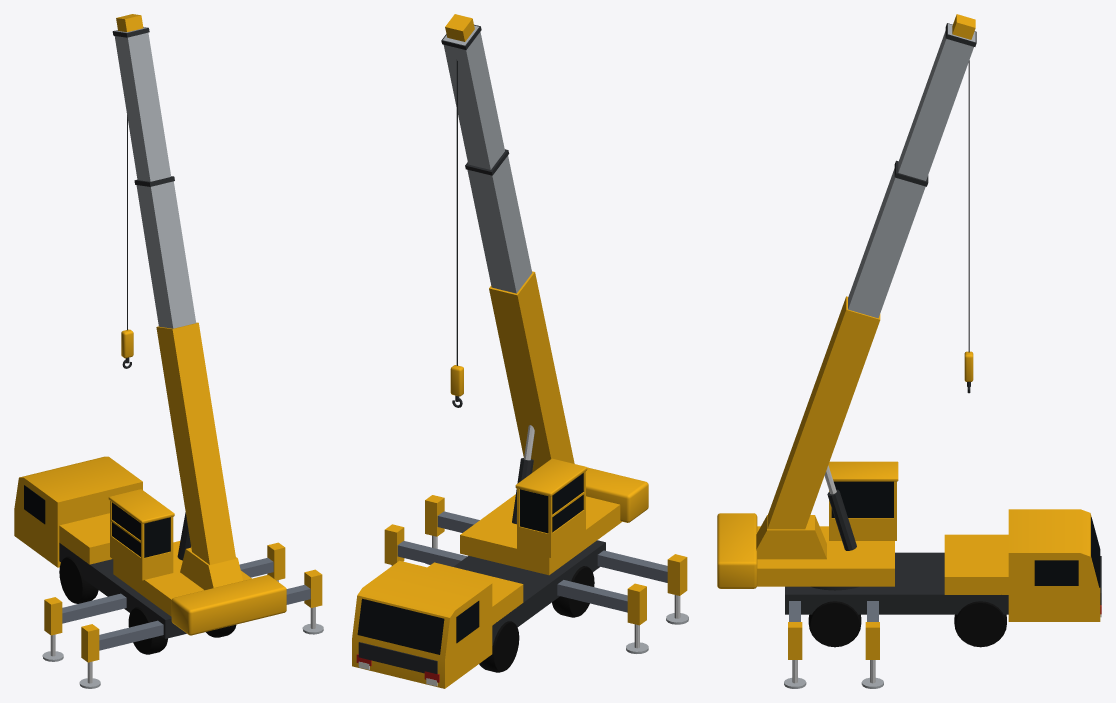
Rendered from plant.lifting.mobile_crane_2_axle.glb.
3 views of the same model, side by side, from view 1: azimuth 30°, elevation 25°; view 2: azimuth 150°, elevation 25°; view 3: azimuth 270°, elevation 25° (orthographic). The views are drawn at different scales.
Parts seen in each view (by area): view 1: upper__plant_yellow, boom__plant_yellow, boom__steel_galvanised, carrier__plant_yellow, outriggers__steel_painted, outriggers__plant_yellow, carrier__steel_dark, wheels__rubber, upper__glass_dark, boom__steel_dark, carrier__glass_dark, outriggers__steel_galvanised; view 2: upper__plant_yellow, carrier__plant_yellow, boom__steel_galvanised, boom__plant_yellow, carrier__steel_dark, outriggers__steel_painted, carrier__glass_dark, outriggers__plant_yellow, upper__glass_dark, wheels__rubber, boom__steel_dark, hook__steel_dark; view 3: upper__plant_yellow, carrier__plant_yellow, boom__steel_galvanised, boom__plant_yellow, carrier__steel_dark, wheels__rubber, upper__glass_dark, carrier__glass_dark, boom__steel_dark, outriggers__plant_yellow, hook__steel_dark.
Boxes of the visible parts, bbox=[...] form: upper__plant_yellow: bbox=[108, 489, 286, 635]; boom__plant_yellow: bbox=[116, 14, 235, 564]; boom__steel_galvanised: bbox=[114, 27, 196, 328]; carrier__plant_yellow: bbox=[14, 456, 142, 567]; outriggers__steel_painted: bbox=[62, 557, 310, 650]; outriggers__plant_yellow: bbox=[44, 542, 322, 662]; carrier__steel_dark: bbox=[59, 543, 186, 638]; wheels__rubber: bbox=[59, 556, 236, 654]; upper__glass_dark: bbox=[112, 502, 170, 557]; boom__steel_dark: bbox=[112, 27, 190, 560]; carrier__glass_dark: bbox=[24, 485, 45, 524]; outriggers__steel_galvanised: bbox=[42, 623, 323, 688]; upper__plant_yellow: bbox=[460, 458, 648, 575]; carrier__plant_yellow: bbox=[352, 560, 523, 688]; boom__steel_galvanised: bbox=[443, 25, 532, 293]; boom__plant_yellow: bbox=[445, 14, 574, 472]; carrier__steel_dark: bbox=[358, 540, 605, 673]; outriggers__steel_painted: bbox=[397, 511, 667, 612]; carrier__glass_dark: bbox=[357, 598, 479, 654]; outriggers__plant_yellow: bbox=[384, 495, 687, 625]; upper__glass_dark: bbox=[520, 473, 583, 533]; wheels__rubber: bbox=[479, 566, 594, 672]; boom__steel_dark: bbox=[441, 24, 533, 524]; hook__steel_dark: bbox=[452, 59, 462, 407]; upper__plant_yellow: bbox=[717, 461, 898, 588]; carrier__plant_yellow: bbox=[944, 509, 1100, 621]; boom__steel_galvanised: bbox=[848, 23, 975, 318]; boom__plant_yellow: bbox=[767, 14, 975, 529]; carrier__steel_dark: bbox=[785, 552, 1101, 614]; wheels__rubber: bbox=[808, 601, 1006, 647]; upper__glass_dark: bbox=[831, 481, 893, 517]; carrier__glass_dark: bbox=[1034, 517, 1100, 587]; boom__steel_dark: bbox=[827, 23, 976, 550]; outriggers__plant_yellow: bbox=[788, 622, 879, 659]; hook__steel_dark: bbox=[967, 60, 970, 393].
Size of the model in its own units: 7.35 by 16.95 by 9.63.
